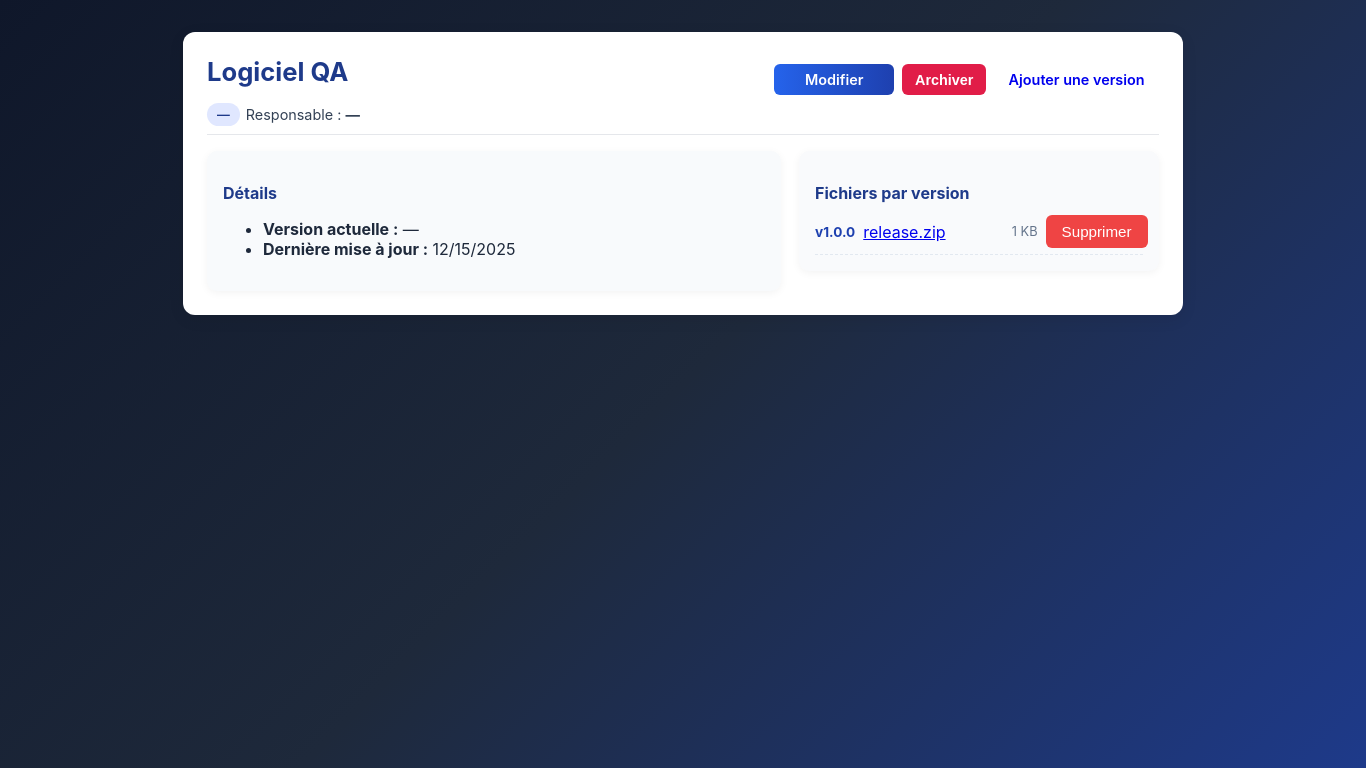
Scenario: BuildDetail › permet à un admin de supprimer un fichier
Click the button "Supprimer" at [1097, 232], box [1046,215,1148,248]
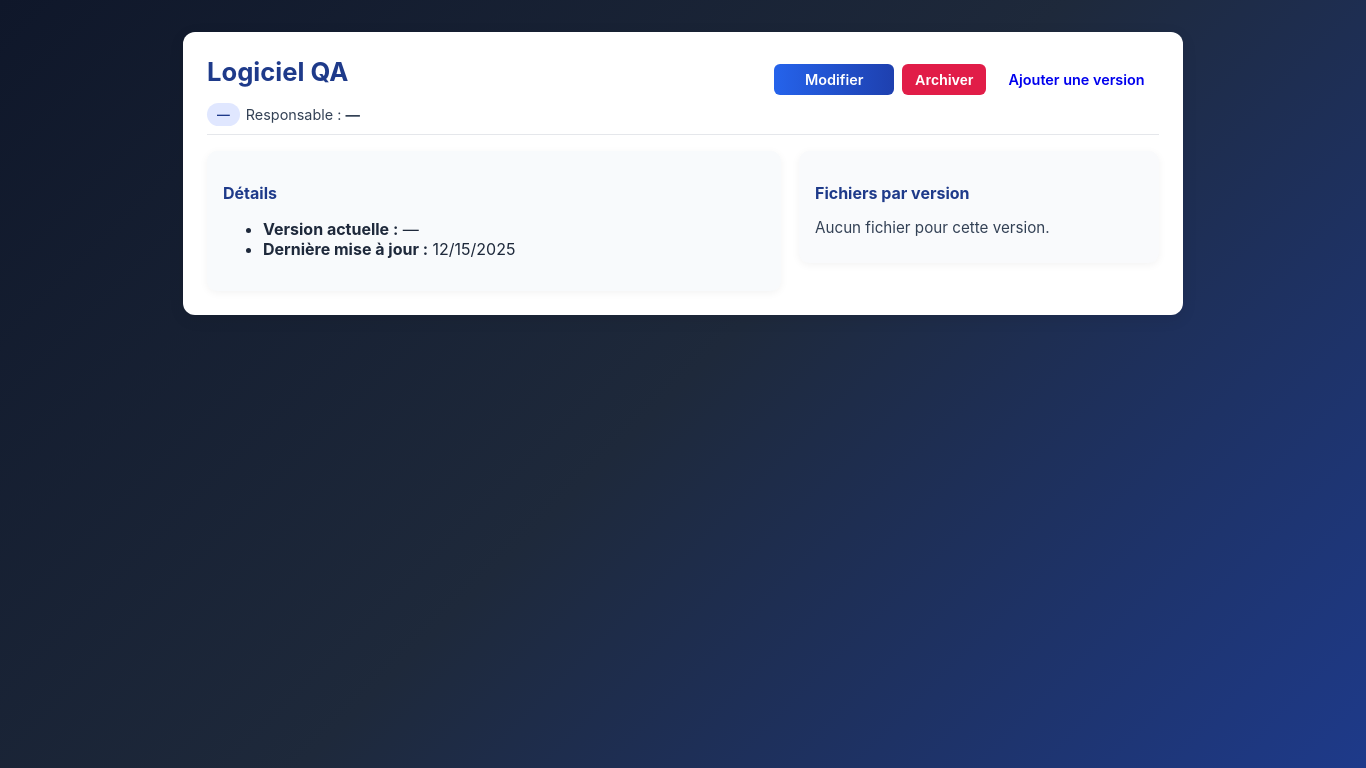
expect the link "release.zip" is gone: met
